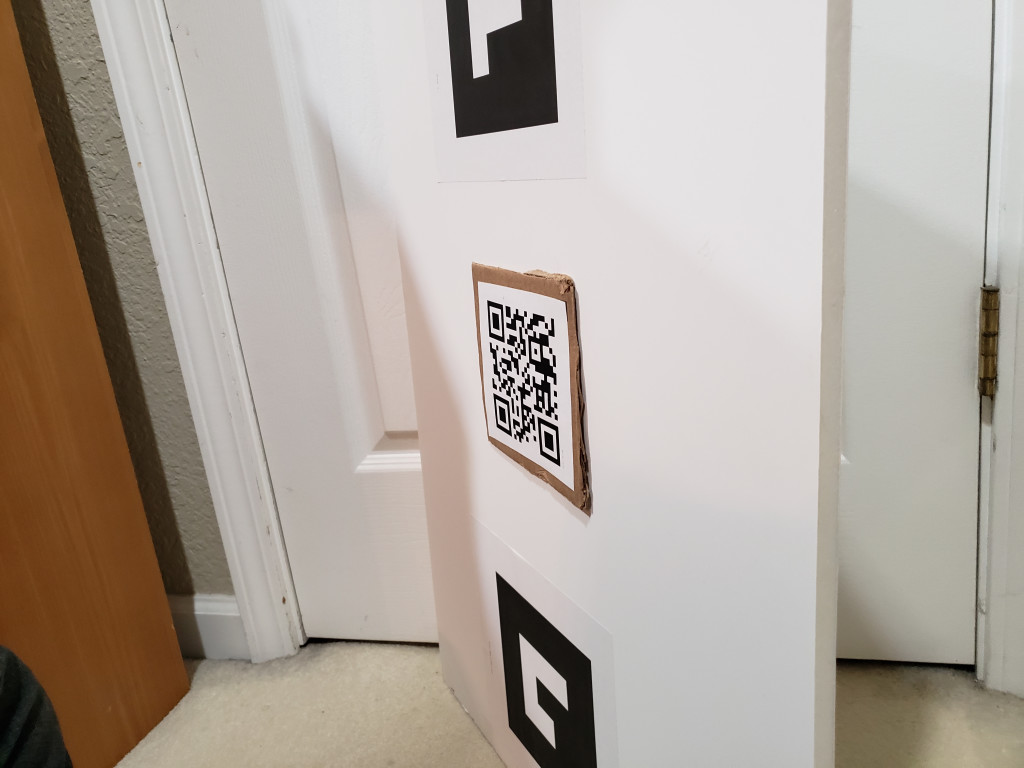QR_CODE: (477, 289, 579, 479)
